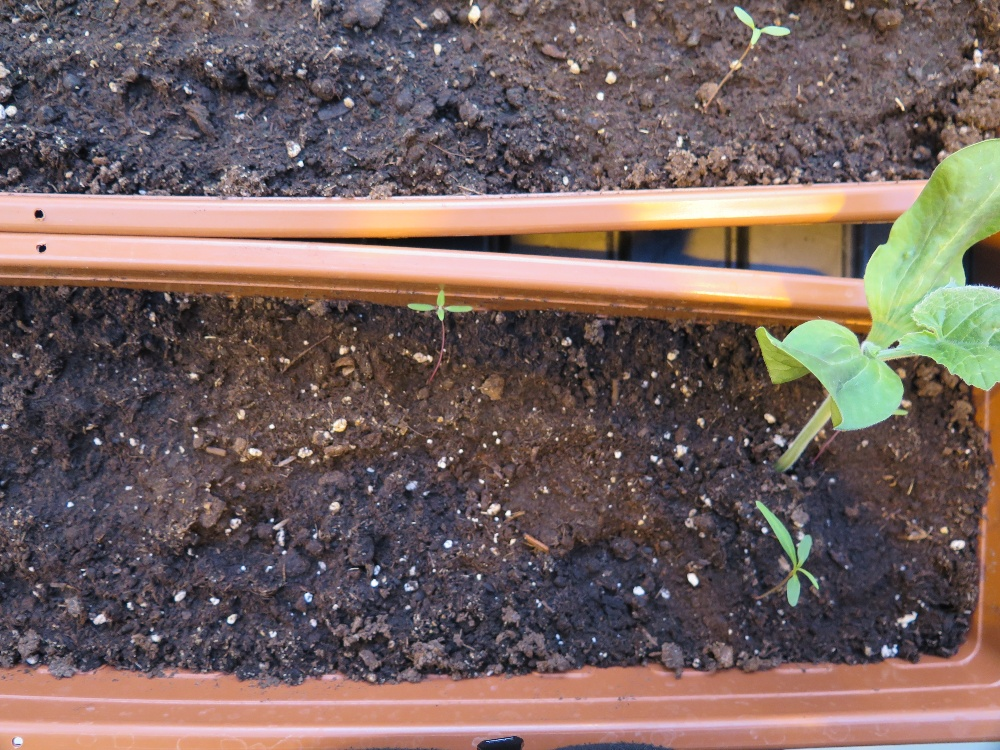crop: (755, 132, 1000, 476)
weed: (754, 498, 821, 608), (733, 5, 791, 46), (406, 288, 473, 321)
